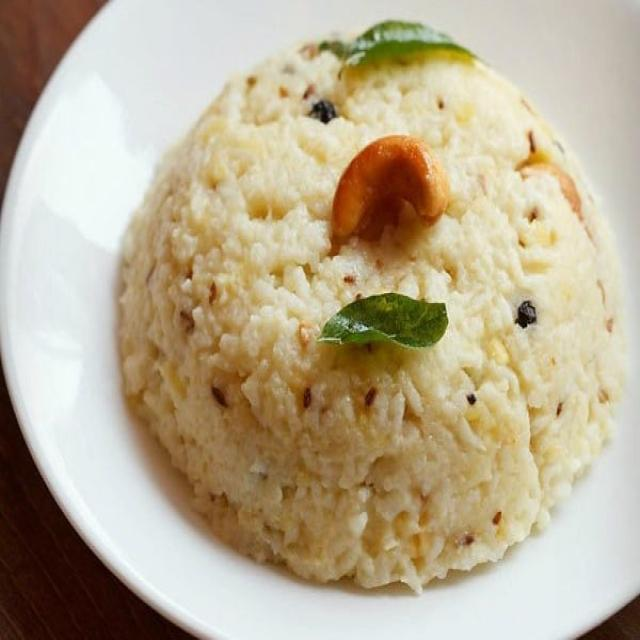khara pongal: (97, 6, 640, 622)
